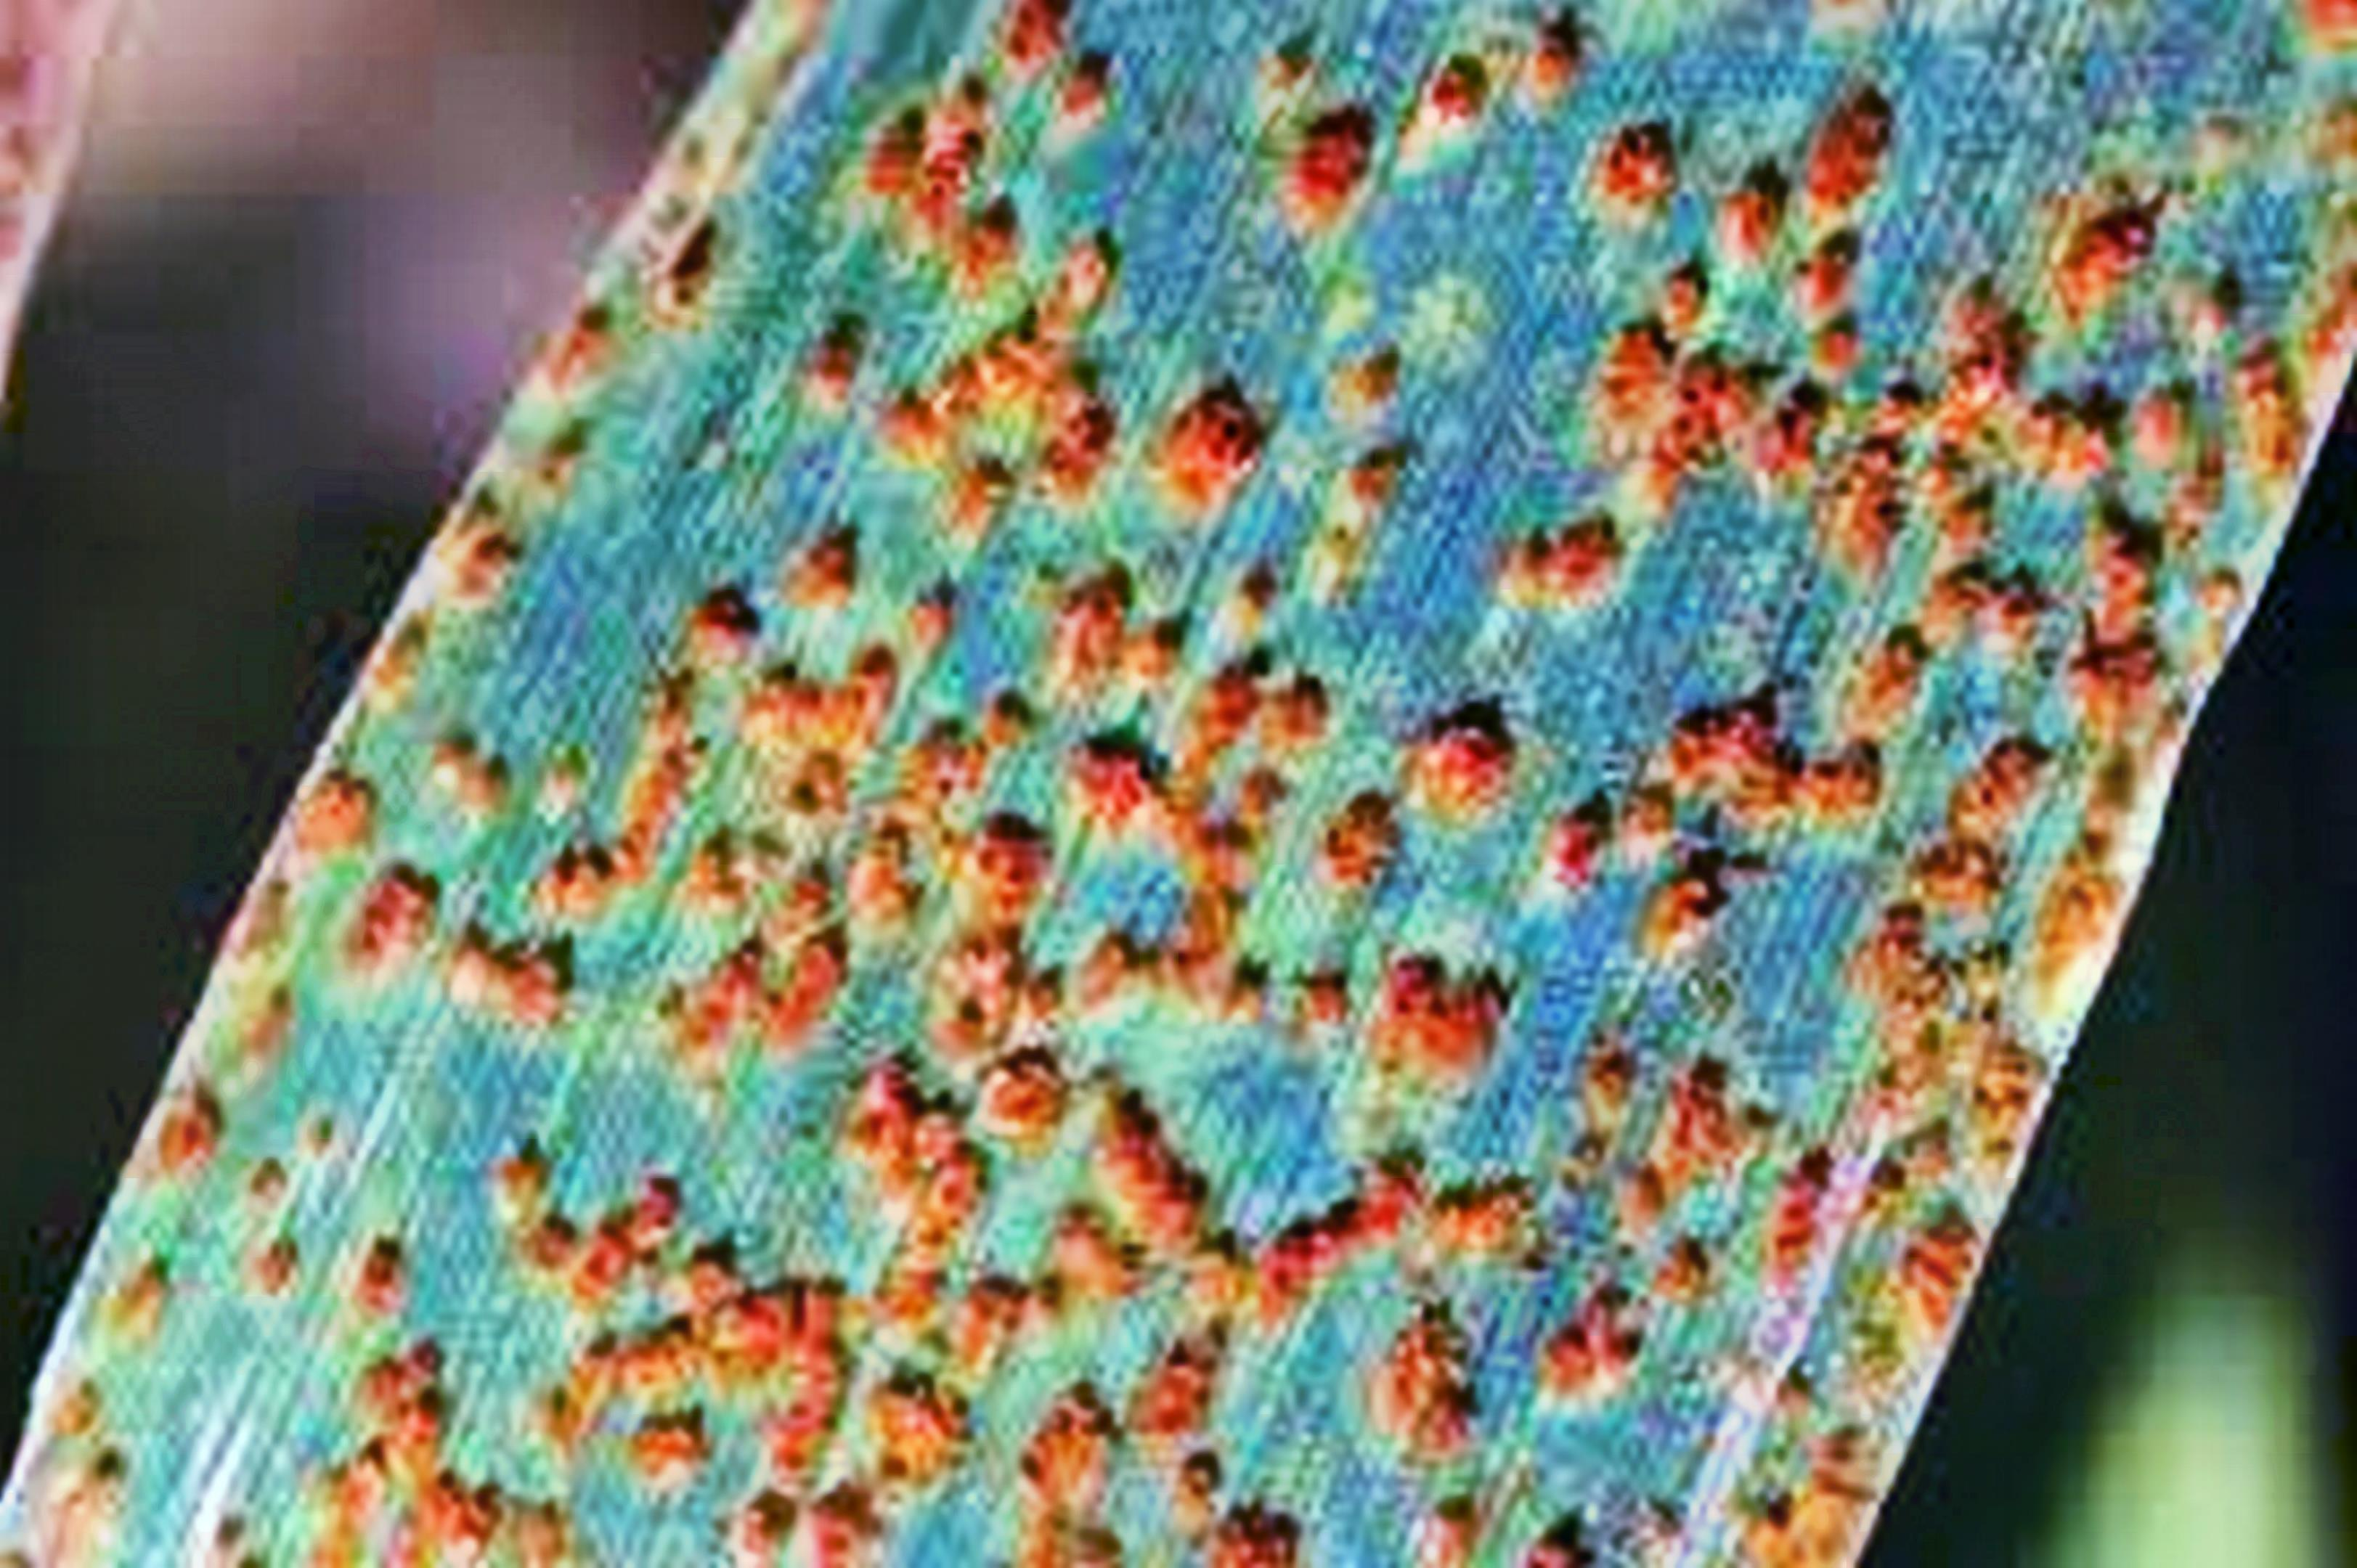Leaf Rust: (380, 166, 2168, 1559)
